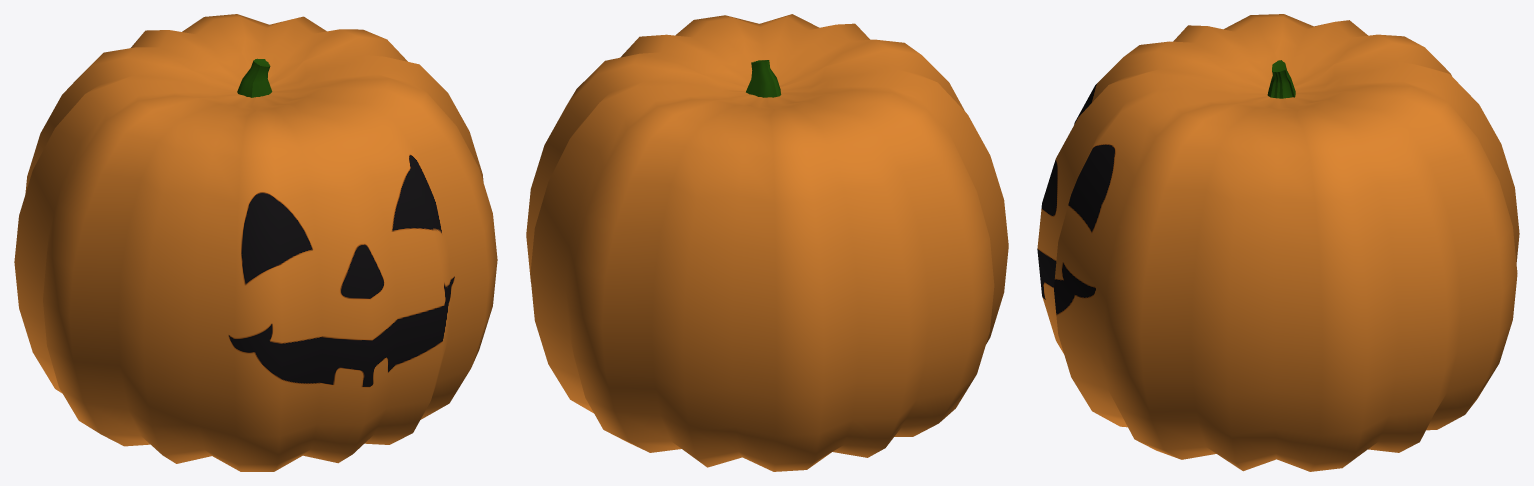
The model's file is Pumpkin.FBX.
3 views of the same model, side by side, from view 1: azimuth 30°, elevation 25°; view 2: azimuth 150°, elevation 25°; view 3: azimuth 270°, elevation 25° (orthographic).
Visible parts, largest first — view 1: pumpkin; view 2: pumpkin; view 3: pumpkin.
Part boxes in pixels (left/top/right/bottom): pumpkin: left=14, top=14, right=497, bottom=471; pumpkin: left=526, top=14, right=1008, bottom=471; pumpkin: left=1037, top=14, right=1519, bottom=471.
Bounding box in the file's own units: 20.12 × 15.87 × 20.12.
